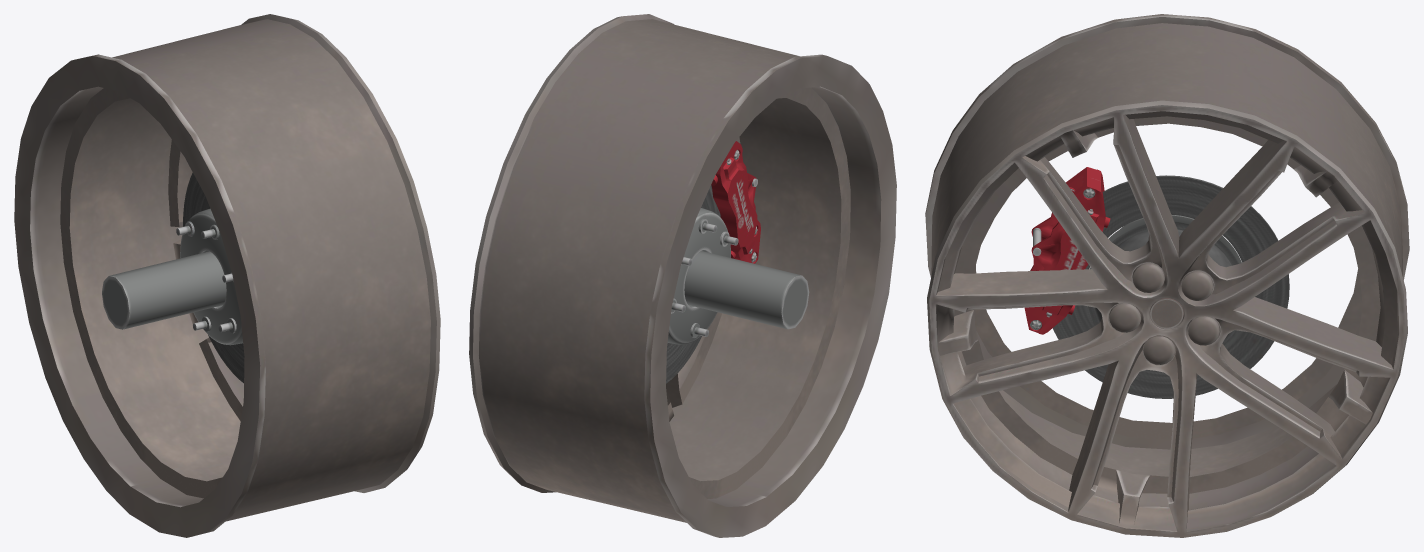
Rendered from tyre-standard.glb.
3 renders of one model, left to right at view 1: azimuth 30°, elevation 25°; view 2: azimuth 150°, elevation 25°; view 3: azimuth 270°, elevation 25°, orthographic.
Visible parts, largest first — view 1: masaretti_tyer_parts01_low, masaretti_tyer_parts02_low, masaretti_tyer_parts05_low, masaretti_tyer_parts04_low, masaretti_tyer_parts12_low; view 2: masaretti_tyer_parts01_low, masaretti_tyer_parts02_low, masaretti_tyer_parts06_low, masaretti_tyer_parts05_low, masaretti_tyer_parts04_low, masaretti_tyer_parts12_low; view 3: masaretti_tyer_parts01_low, masaretti_tyer_parts04_low, masaretti_tyer_parts06_low, masaretti_tyer_parts09_low, masaretti_tyer_parts03_low, masaretti_tyer_parts05_low.
Part boxes in pixels (x1,y1,x2,y2): masaretti_tyer_parts01_low: (14,14,440,537); masaretti_tyer_parts02_low: (102,251,226,329); masaretti_tyer_parts05_low: (180,208,242,345); masaretti_tyer_parts04_low: (183,172,244,383); masaretti_tyer_parts12_low: (176,225,233,331); masaretti_tyer_parts01_low: (469,14,896,537); masaretti_tyer_parts02_low: (684,251,809,329); masaretti_tyer_parts06_low: (711,141,760,263); masaretti_tyer_parts05_low: (667,208,730,344); masaretti_tyer_parts04_low: (666,185,720,383); masaretti_tyer_parts12_low: (671,223,738,336); masaretti_tyer_parts01_low: (925,14,1409,537); masaretti_tyer_parts04_low: (1053,175,1289,398); masaretti_tyer_parts06_low: (1024,167,1110,334); masaretti_tyer_parts09_low: (1109,263,1219,364); masaretti_tyer_parts03_low: (1088,222,1238,344); masaretti_tyer_parts05_low: (1090,215,1241,269).
Bounding box in the file's own units: 0.207 × 0.4331 × 0.4321.
1 material, 1 textured.
